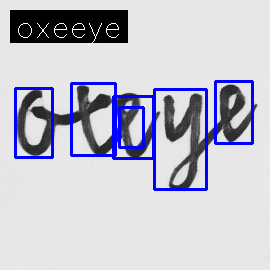e: (115, 88, 159, 161), (215, 83, 260, 143)
o: (13, 88, 59, 159)
x: (62, 84, 114, 159)
y: (161, 89, 204, 194)
